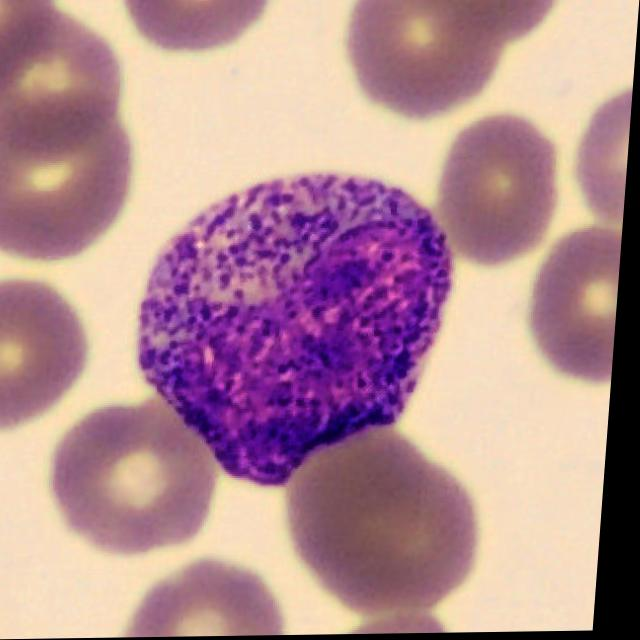Promielocito: (143, 172, 457, 486)
